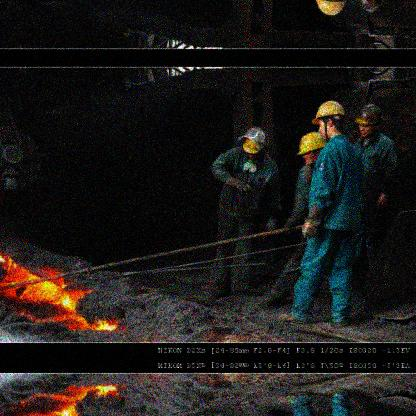helmet: (310, 101, 343, 141), (235, 127, 269, 165), (297, 133, 326, 169), (353, 103, 380, 139)
